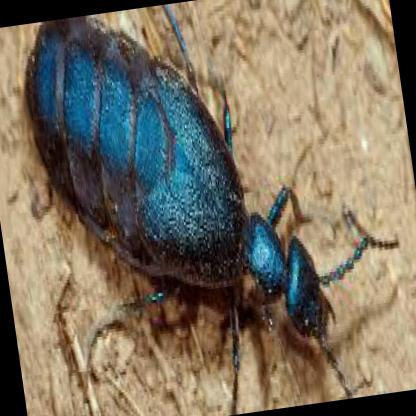blister beetle: (24, 8, 367, 395)
